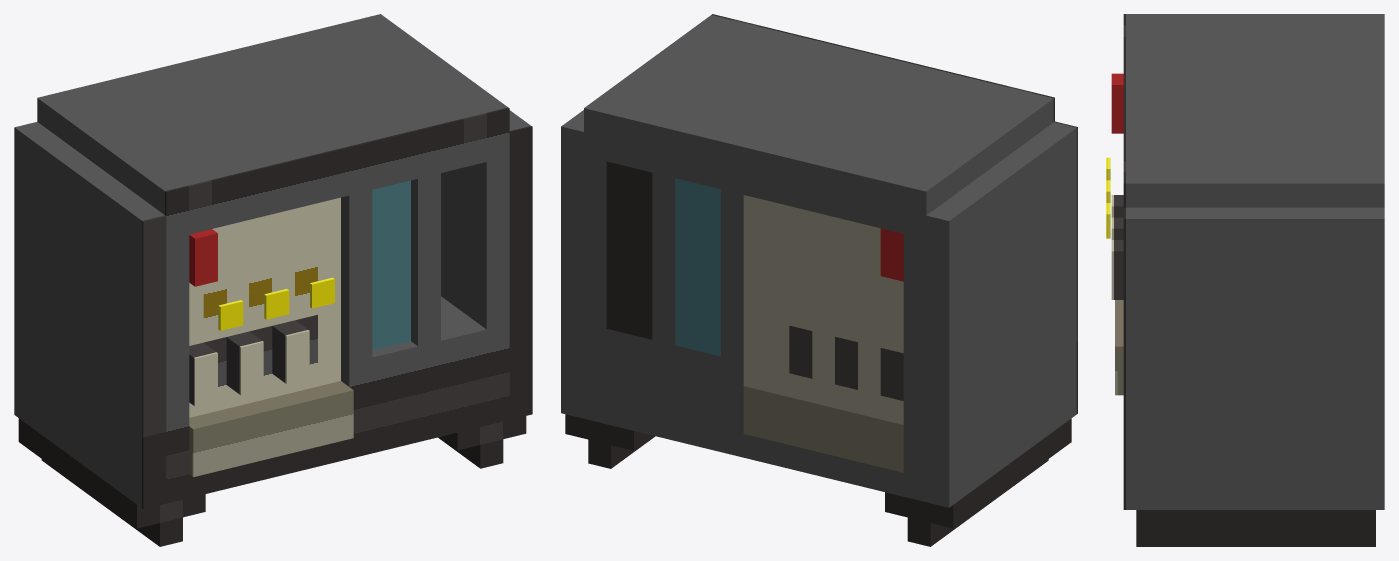
The model's file is CMU3DRMCRecharger.glb.
The picture shows the model from 3 angles, left to right: view 1: azimuth 30°, elevation 25°; view 2: azimuth 150°, elevation 25°; view 3: azimuth 270°, elevation 25°; orthographic projection.
Visible parts, largest first — view 1: recharger frame 0 section 0 solid, recharger frame 0 section 1 solid, recharger frame 0 section 0 face, recharger frame 0 section 5 face, recharger frame 0 section 23 face, recharger frame 0 section 1 face, recharger frame 0 section 2 face, recharger frame 0 section 10 solid, recharger frame 0 section 10 face, recharger frame 0 section 3 face, recharger frame 0 section 6 face, recharger frame 0 section 7 face (+23 smaller); view 2: recharger frame 0 section 0 solid, recharger frame 0 section 1 solid, recharger frame 0 section 5 solid, recharger frame 0 section 9 solid, recharger frame 0 section 23 solid, recharger frame 0 section 7 solid, recharger frame 0 section 2 solid, recharger frame 0 section 8 solid, recharger frame 0 section 3 solid, recharger frame 0 section 6 solid, recharger frame 0 section 10 solid, recharger frame 0 section 22 solid (+16 smaller); view 3: recharger frame 0 section 2 solid, recharger frame 0 section 0 solid, recharger frame 0 section 26 solid, recharger frame 0 section 28 solid, recharger frame 0 section 2 face, recharger frame 0 section 23 solid, recharger frame 0 section 4 solid, recharger frame 0 section 16 solid, recharger frame 0 section 0 face.
Part boxes in pixels (x1,y1,x2,y2): recharger frame 0 section 0 solid: (37, 14, 507, 214); recharger frame 0 section 1 solid: (14, 122, 164, 507); recharger frame 0 section 0 face: (165, 107, 509, 239); recharger frame 0 section 5 face: (203, 197, 340, 342); recharger frame 0 section 23 face: (192, 389, 353, 477); recharger frame 0 section 1 face: (142, 215, 166, 509); recharger frame 0 section 2 face: (509, 126, 532, 419); recharger frame 0 section 10 solid: (441, 162, 485, 328); recharger frame 0 section 10 face: (485, 156, 509, 425); recharger frame 0 section 3 face: (166, 234, 189, 503); recharger frame 0 section 6 face: (348, 190, 372, 458); recharger frame 0 section 7 face: (372, 180, 410, 350); recharger frame 0 section 0 solid: (584, 15, 1053, 239); recharger frame 0 section 1 solid: (926, 122, 1076, 507); recharger frame 0 section 5 solid: (743, 195, 880, 347); recharger frame 0 section 9 solid: (606, 161, 652, 339); recharger frame 0 section 23 solid: (743, 386, 903, 472); recharger frame 0 section 7 solid: (675, 178, 720, 356); recharger frame 0 section 2 solid: (561, 110, 583, 418); recharger frame 0 section 8 solid: (652, 172, 675, 440); recharger frame 0 section 3 solid: (903, 234, 926, 501); recharger frame 0 section 6 solid: (721, 189, 743, 457); recharger frame 0 section 10 solid: (584, 156, 606, 424); recharger frame 0 section 22 solid: (606, 329, 652, 435); recharger frame 0 section 2 solid: (1126, 207, 1384, 509); recharger frame 0 section 0 solid: (1126, 14, 1384, 207); recharger frame 0 section 26 solid: (1139, 510, 1375, 533); recharger frame 0 section 28 solid: (1139, 534, 1375, 546); recharger frame 0 section 2 face: (1123, 207, 1125, 509); recharger frame 0 section 23 solid: (1117, 300, 1123, 395); recharger frame 0 section 4 solid: (1114, 73, 1123, 133); recharger frame 0 section 16 solid: (1114, 240, 1123, 299); recharger frame 0 section 0 face: (1123, 14, 1125, 207).
Size of what is drawn, in the model's own units: 0.5312 by 0.4688 by 0.325.
Materials: 20 (10 with a texture image).
